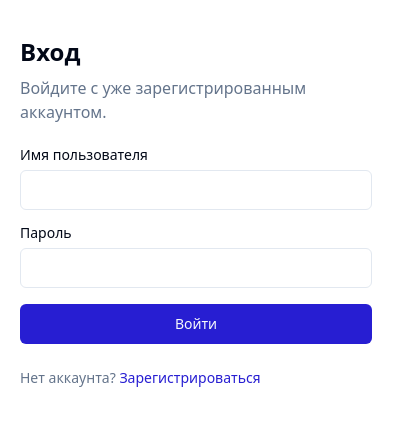
Test: LoginPage (тикет 9.2, FR A3) › не отправляет форму с пустыми полями (клиентская валидация)
Click the button "Войти". click: {"x": 196, "y": 324}
box: [20, 304, 372, 344]
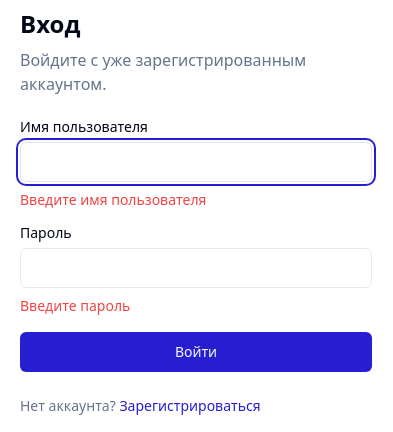
Expected: the text "Введите имя пользователя" is shown, [20, 190, 206, 209]
Expected: the text "Введите пароль" is shown, [20, 296, 130, 315]
